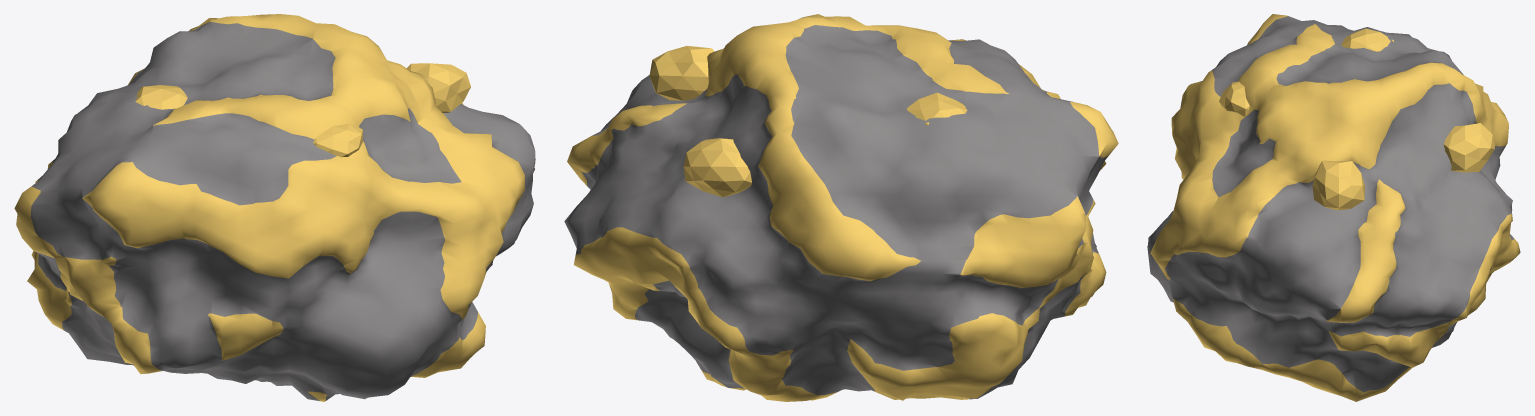
File: gold_surface.glb
3 views of the same model, side by side, from view 1: azimuth 30°, elevation 25°; view 2: azimuth 150°, elevation 25°; view 3: azimuth 270°, elevation 25° (orthographic). The views are drawn at different scales.
Parts seen in each view (by area): view 1: gold_surface; view 2: gold_surface; view 3: gold_surface.
Boxes of the visible parts, x1,y1,x2,y2 form: gold_surface: [14, 14, 535, 401]; gold_surface: [564, 14, 1118, 401]; gold_surface: [1147, 14, 1520, 401].
Bounding box in the file's own units: 1.44 × 0.9252 × 1.07.
